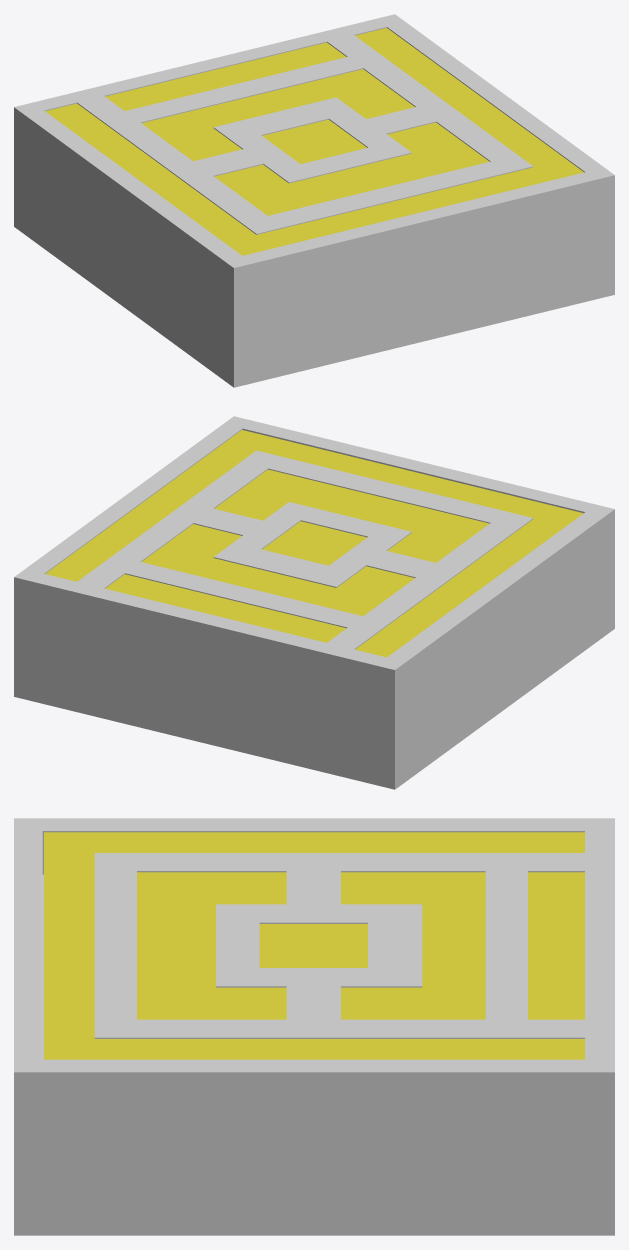
File: Base Tile 1 Yellow.fbx
3 renders of one model, top to bottom at view 1: azimuth 30°, elevation 25°; view 2: azimuth 150°, elevation 25°; view 3: azimuth 270°, elevation 25°, orthographic. The views are drawn at different scales.
Visible parts, largest first — view 1: Body, Color 1; view 2: Body, Color 1; view 3: Body, Color 1.
Part boxes in pixels (x1,y1,x2,y2): Body: (14,14,614,387); Color 1: (45,28,583,255); Body: (14,416,614,789); Color 1: (45,430,583,657); Body: (14,818,614,1235); Color 1: (44,832,584,1059).
Bounding box in the file's own units: 200 × 60.02 × 200.
